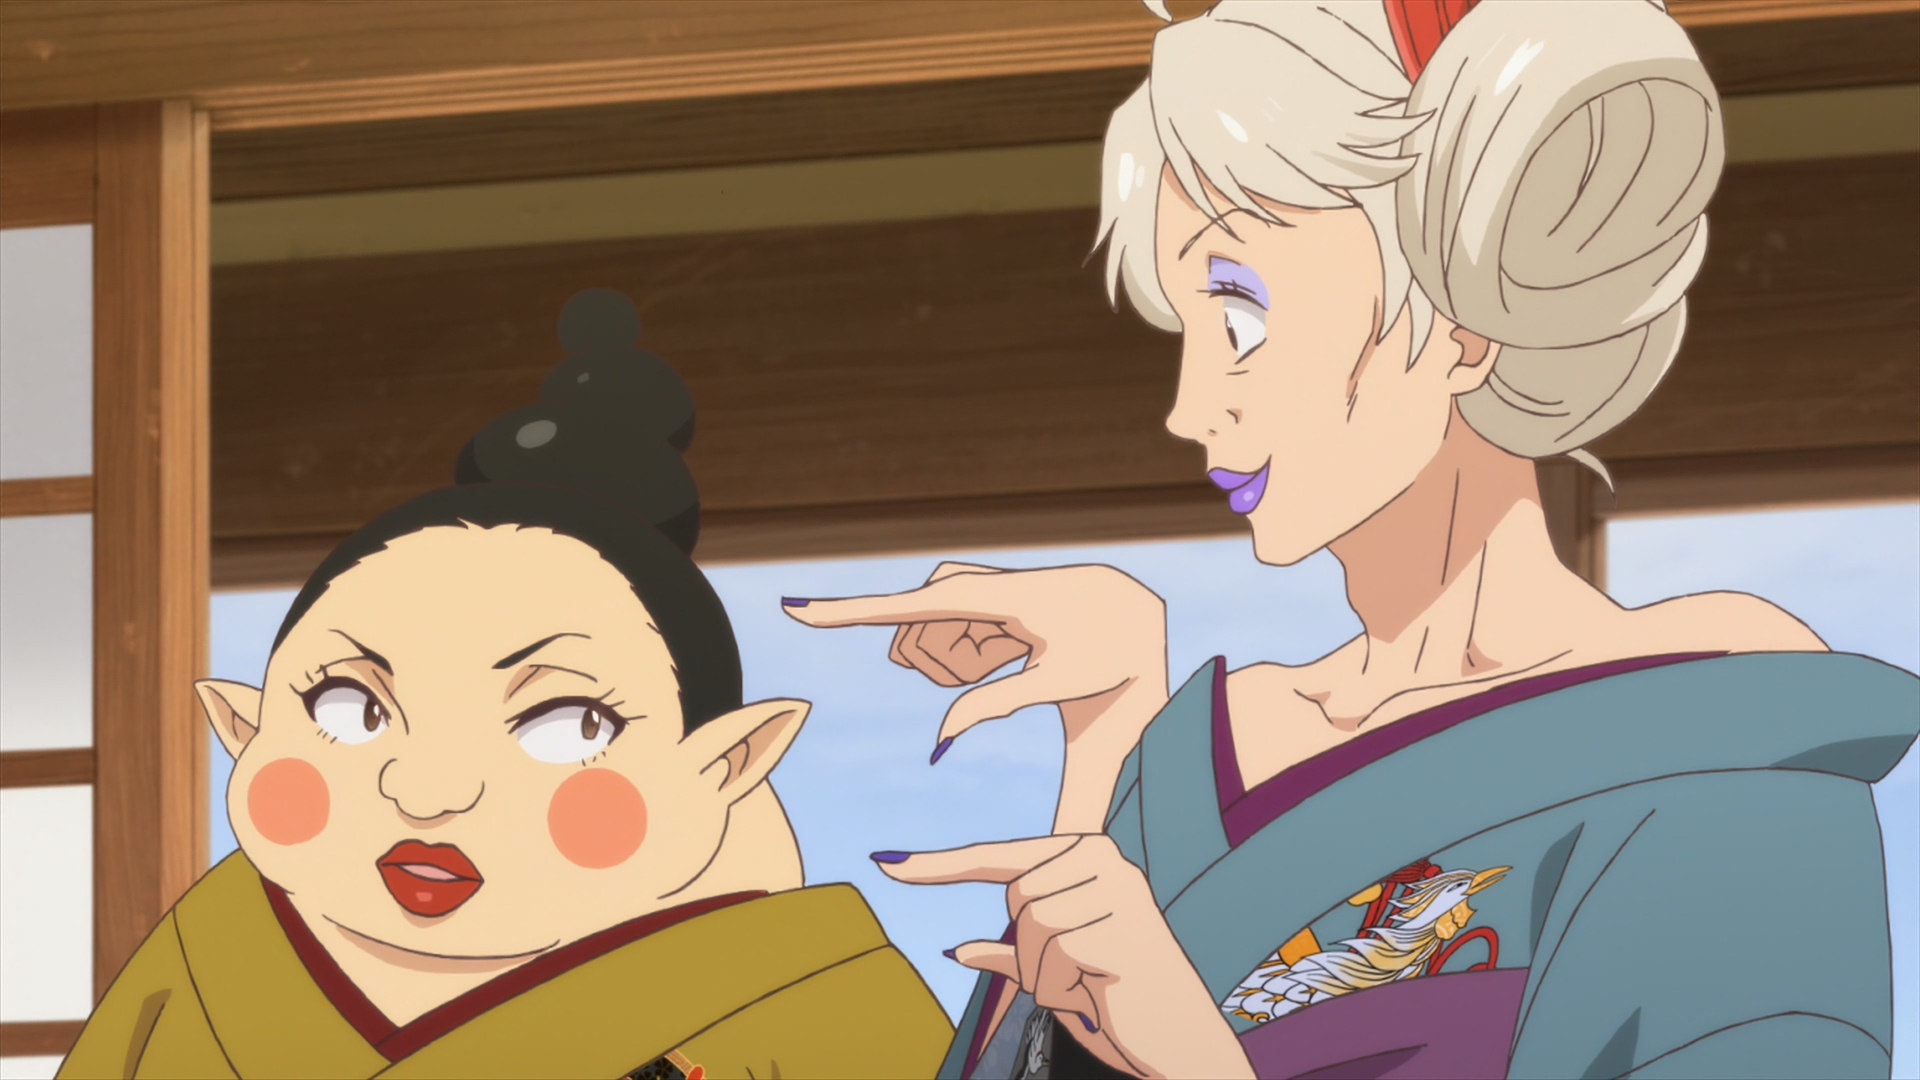其他: (779, 1, 1920, 1080), (53, 289, 957, 1080)
